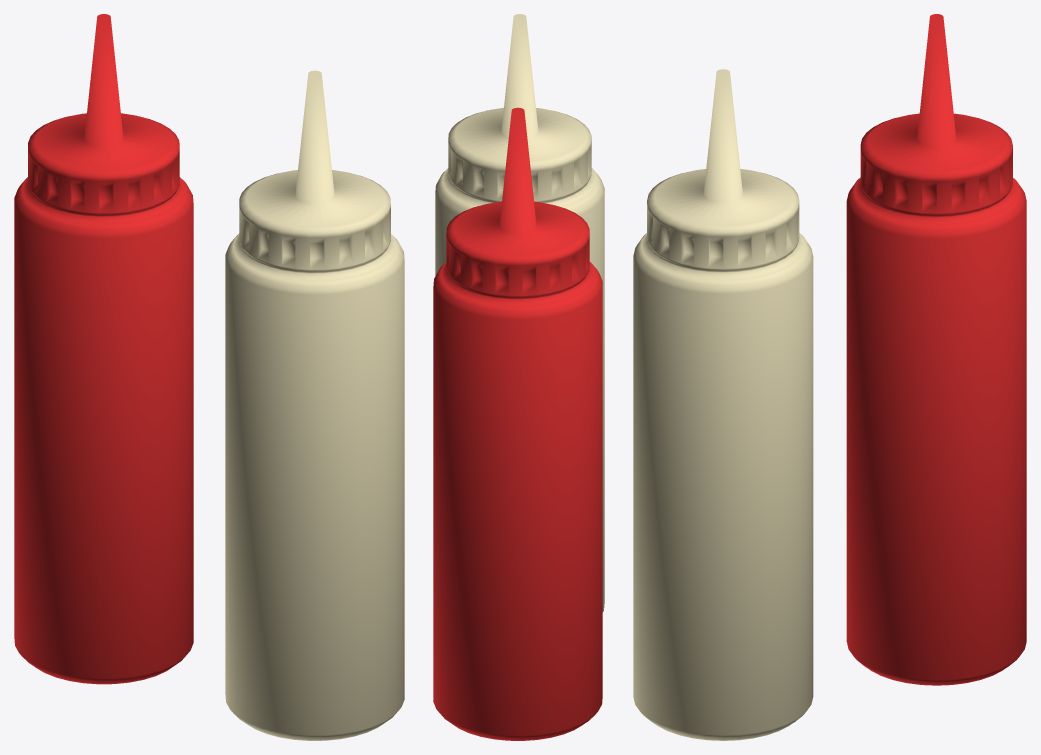
The model's file is sauce bottle.fbx.
The picture shows the model from 3 angles, left to right: view 1: azimuth 30°, elevation 25°; view 2: azimuth 150°, elevation 25°; view 3: azimuth 270°, elevation 25°; orthographic projection. The views are drawn at different scales.
Visible parts, largest first — view 1: Circle, Circle.001; view 2: Circle, Circle.001; view 3: Circle, Circle.001.
Part boxes in pixels (x1,y1,x2,y2): Circle: (14,14,193,684); Circle.001: (225,70,404,740); Circle: (433,107,602,740); Circle.001: (435,14,604,612); Circle: (846,14,1026,685); Circle.001: (633,69,813,740).
Bounding box in the file's own units: 1057 × 2481 × 1382.
